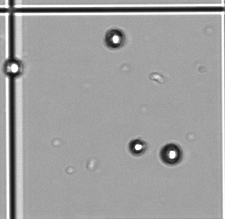Living Cell: (161, 143, 182, 165), (104, 28, 124, 49), (3, 58, 22, 77), (129, 138, 146, 156)
